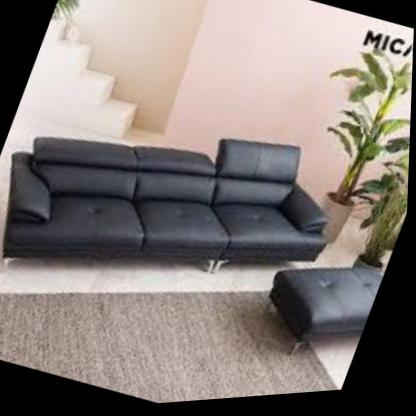Sofa: (0, 50, 377, 386)
